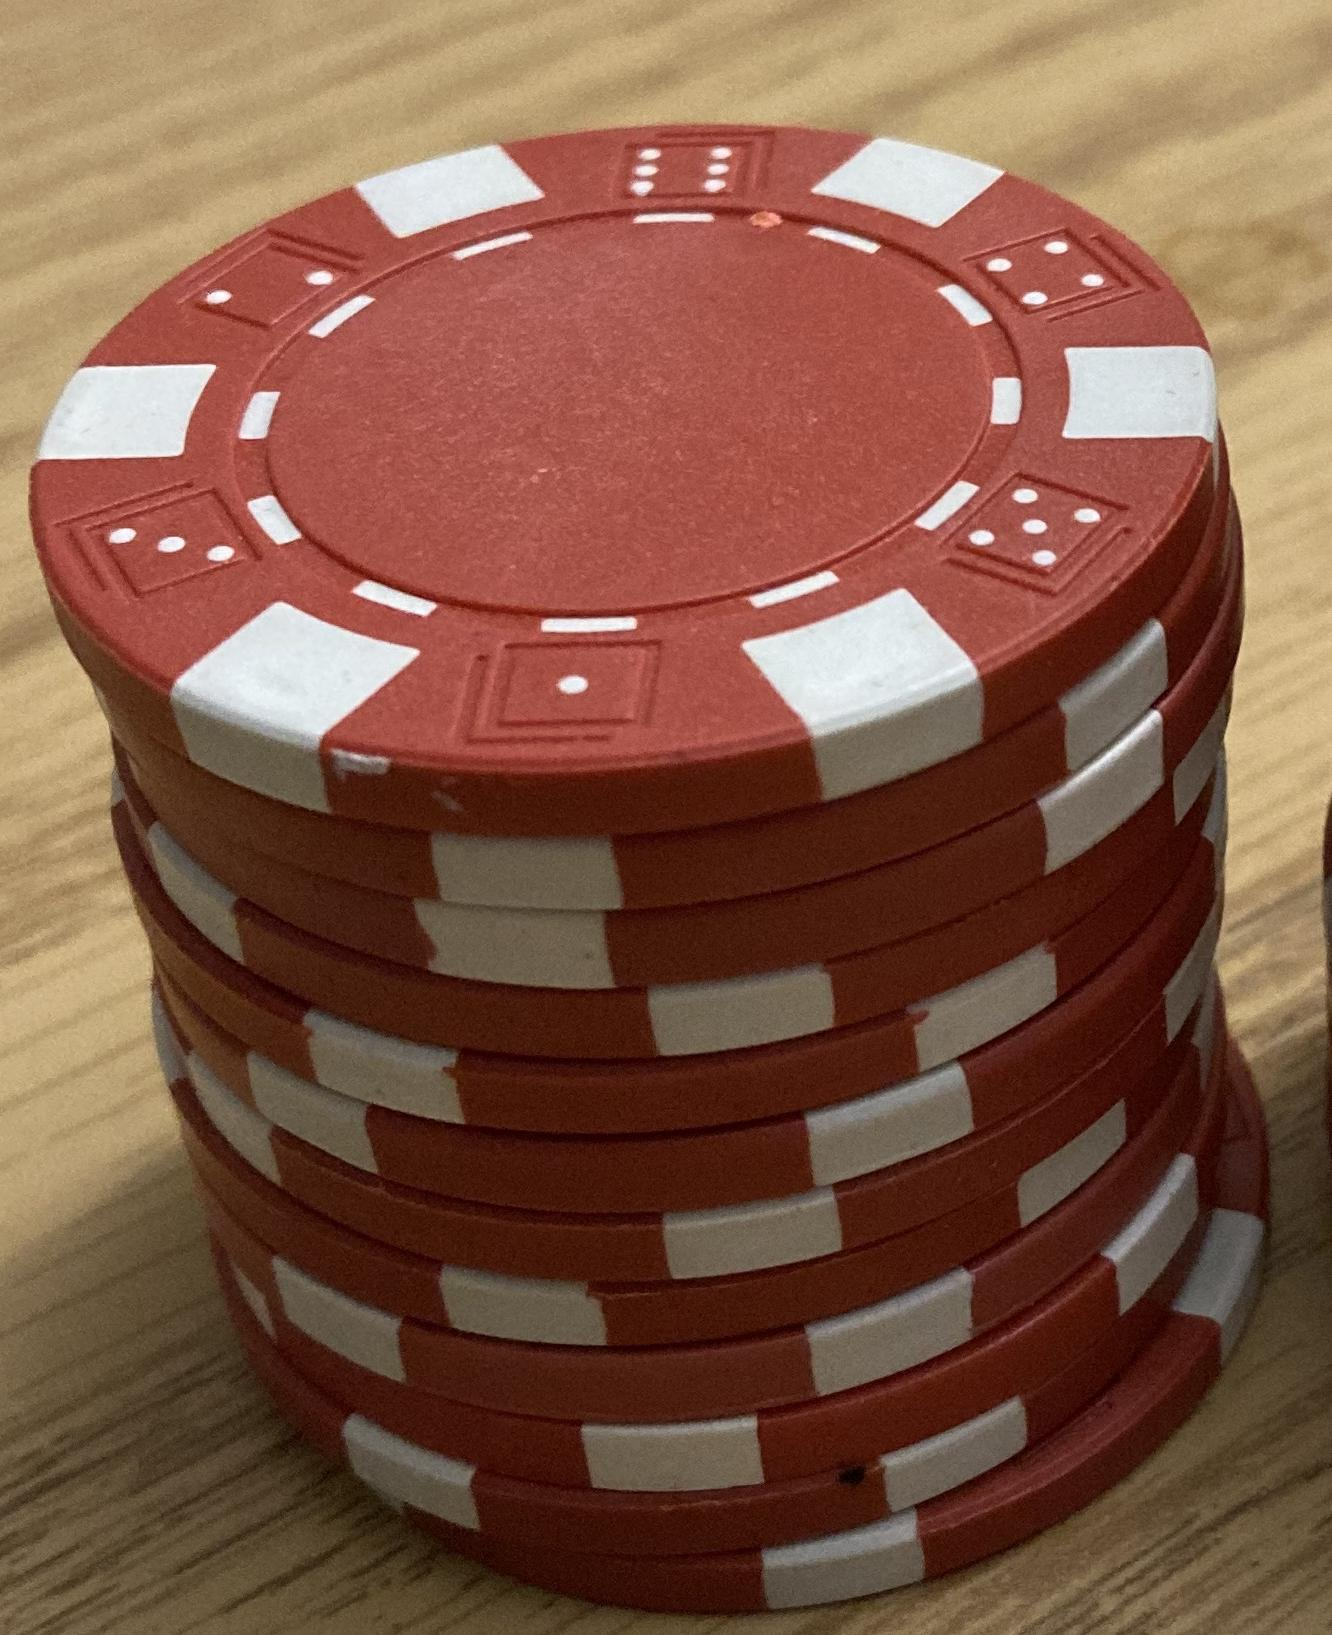Chip: (1, 1, 1332, 1635)
